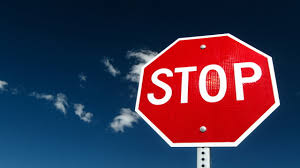stop sign: (134, 34, 281, 148)
